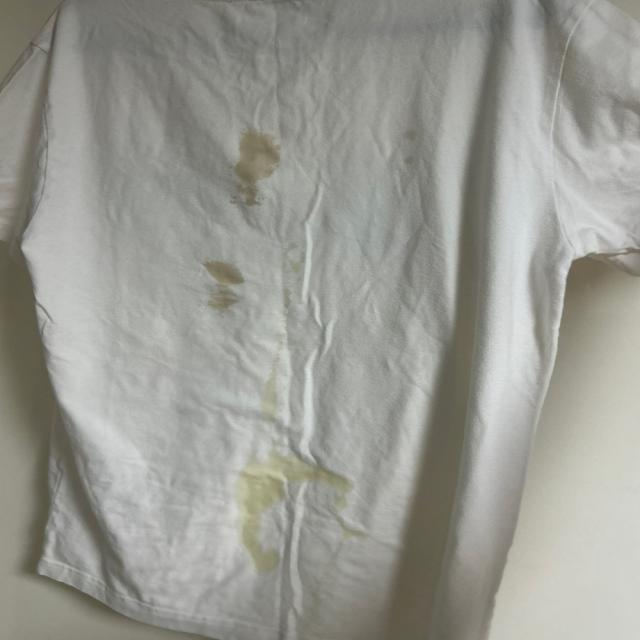stain: (234, 458, 334, 568), (228, 126, 288, 207), (315, 462, 358, 532), (201, 257, 243, 315), (264, 349, 286, 426), (273, 247, 307, 290), (338, 514, 380, 546), (401, 123, 421, 170)
